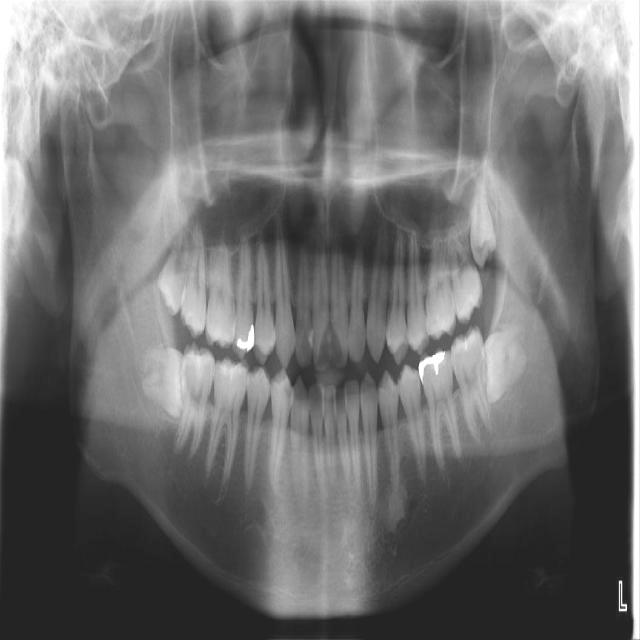Filling: (419, 351, 449, 383), (236, 322, 257, 351)
impacted tooth: (486, 322, 530, 402), (136, 347, 182, 416), (162, 207, 192, 308), (470, 156, 497, 265)
